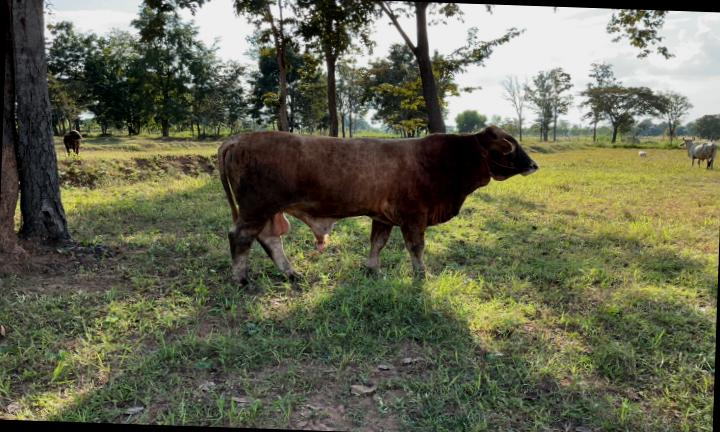Charolais: (218, 126, 537, 283)
